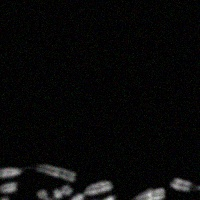chromosome: (51, 181, 112, 200), (36, 164, 75, 181), (134, 187, 166, 200), (171, 178, 191, 192), (0, 168, 22, 179), (36, 190, 59, 200), (0, 183, 16, 197), (54, 186, 72, 198), (76, 195, 113, 200), (198, 181, 200, 192), (0, 198, 7, 200)
